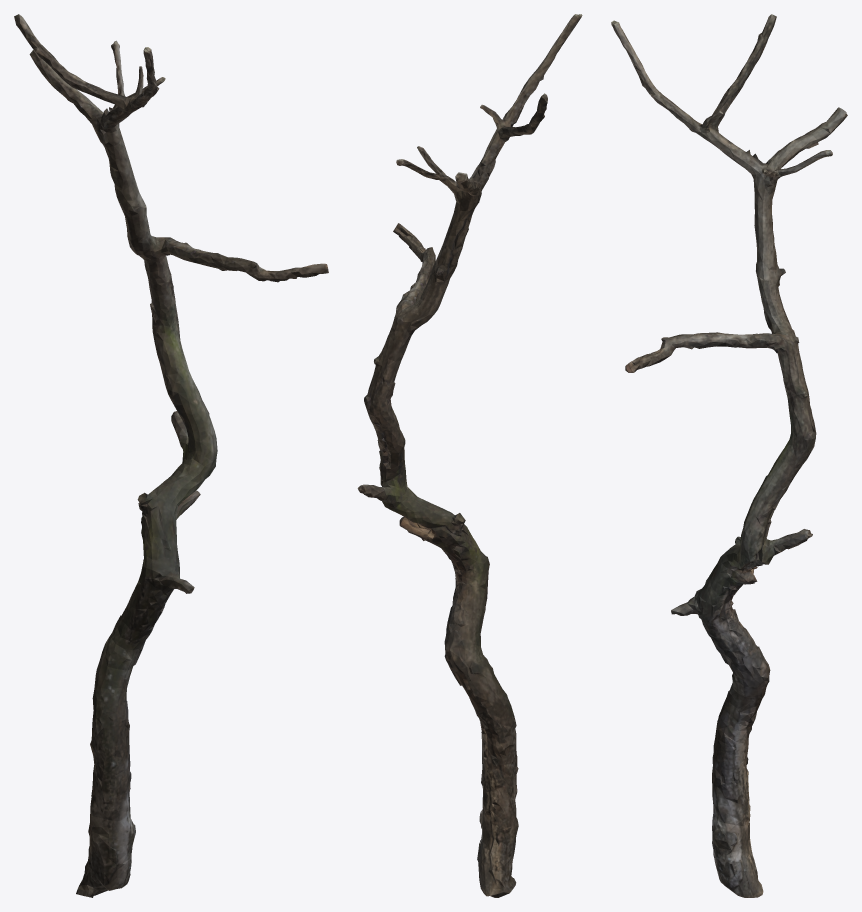
The model's file is branch-dry-b.glb.
The picture shows the model from 3 angles, left to right: view 1: azimuth 30°, elevation 25°; view 2: azimuth 150°, elevation 25°; view 3: azimuth 270°, elevation 25°; orthographic projection. The views are drawn at different scales.
Size of the model in its own units: 0.3599 by 1.3 by 0.3225.
1 material, 1 textured.
